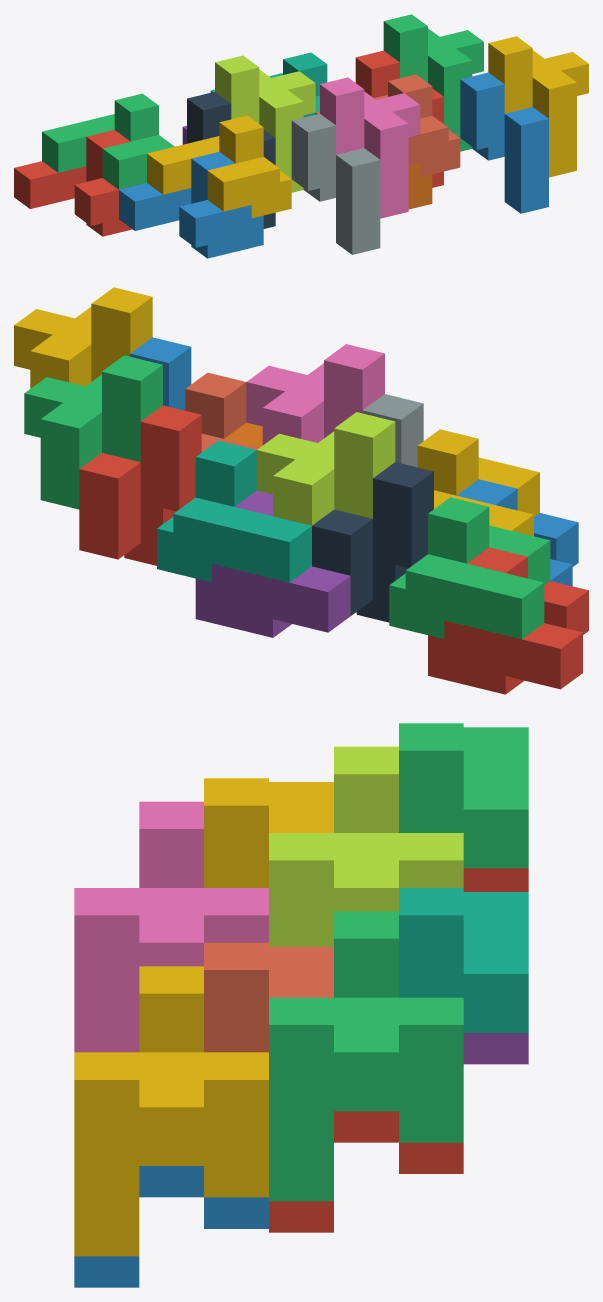
The model's file is tiling.obj.
3 renders of one model, top to bottom at view 1: azimuth 30°, elevation 25°; view 2: azimuth 150°, elevation 25°; view 3: azimuth 270°, elevation 25°, orthographic. The views are drawn at different scales.
Visible parts, largest first — view 1: copy_1_domain_4, copy_2_domain_2, copy_2_domain_6, copy_2_domain_4, copy_2_domain_8, copy_1_domain_2, copy_1_domain_3, copy_2_domain_7, copy_2_domain_3, copy_1_domain_1, copy_1_domain_8, copy_2_domain_1 (+3 smaller); view 2: copy_1_domain_3, copy_1_domain_7, copy_2_domain_5, copy_2_domain_7, copy_1_domain_1, copy_2_domain_1, copy_2_domain_3, copy_1_domain_5, copy_2_domain_4, copy_2_domain_8, copy_1_domain_4, copy_1_domain_8 (+4 smaller); view 3: copy_2_domain_8, copy_2_domain_7, copy_2_domain_4, copy_2_domain_3, copy_1_domain_3, copy_1_domain_7, copy_1_domain_8, copy_1_domain_4, copy_2_domain_6, copy_2_domain_5, copy_1_domain_5, copy_1_domain_1.
Boxes of the visible parts, x1,y1,x2,y2 form: copy_1_domain_4: (147,115,291,218); copy_2_domain_2: (291,113,380,254); copy_2_domain_6: (460,72,548,213); copy_2_domain_4: (320,77,420,218); copy_2_domain_8: (488,36,588,177); copy_1_domain_2: (119,151,263,258); copy_1_domain_3: (42,93,174,189); copy_2_domain_7: (383,14,483,151); copy_2_domain_3: (215,55,315,192); copy_1_domain_1: (14,130,132,236); copy_1_domain_8: (315,74,460,177); copy_2_domain_1: (187,92,275,228); copy_1_domain_3: (389,497,550,639); copy_1_domain_7: (157,440,311,582); copy_2_domain_5: (79,405,201,565); copy_2_domain_7: (24,355,162,509); copy_1_domain_1: (428,547,588,694); copy_2_domain_1: (312,462,433,622); copy_2_domain_3: (256,412,395,525); copy_1_domain_5: (195,490,350,637); copy_2_domain_4: (246,344,384,445); copy_2_domain_8: (14,287,152,388); copy_1_domain_4: (417,429,539,536); copy_1_domain_8: (185,372,259,451); copy_2_domain_8: (74,966,268,1256); copy_2_domain_7: (269,911,463,1201); copy_2_domain_4: (74,801,268,1052); copy_2_domain_3: (269,746,463,946); copy_1_domain_3: (399,723,528,868); copy_1_domain_7: (399,888,528,1032); copy_1_domain_8: (204,942,333,1052); copy_1_domain_4: (204,778,333,887); copy_2_domain_6: (74,1166,268,1287); copy_2_domain_5: (269,1111,463,1232); copy_1_domain_5: (463,1033,528,1064); copy_1_domain_1: (463,868,528,891).
Size of the model in its own units: 17 by 5 by 7.
